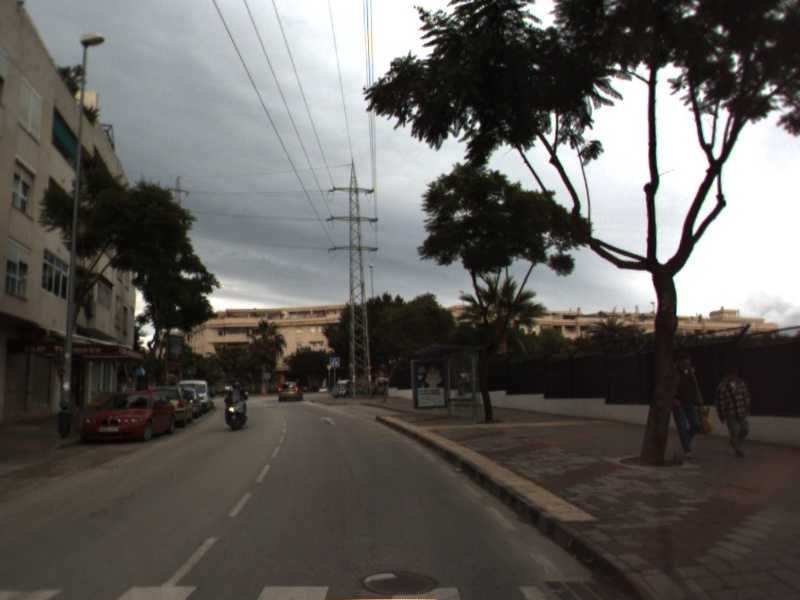STRAIGHT: (317, 414, 340, 427)
